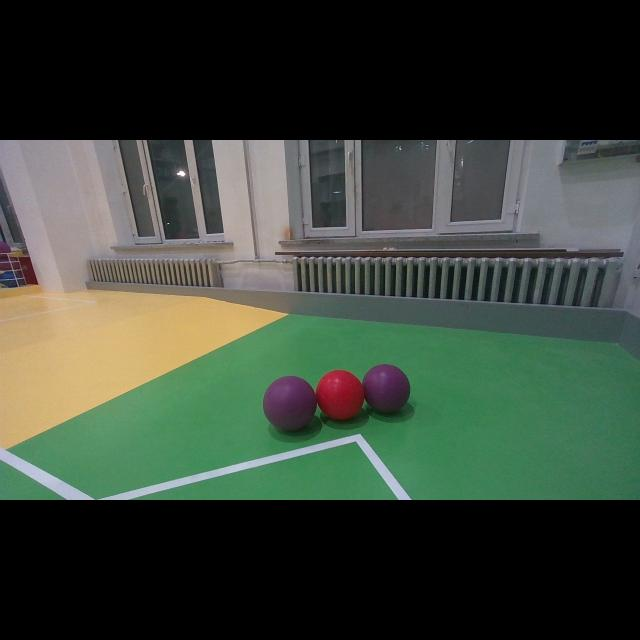P: (263, 376, 317, 432), (362, 364, 411, 412)
R: (316, 370, 364, 420)
